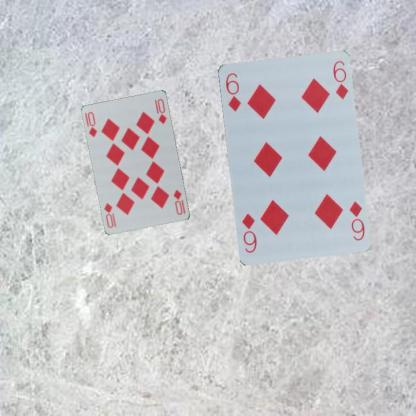10d: (171, 187, 187, 216), (85, 109, 99, 139)
6d: (346, 198, 366, 242), (223, 70, 242, 113)
